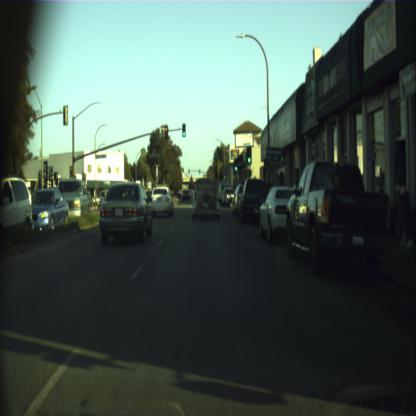Green: (233, 158, 238, 172), (247, 146, 251, 162), (182, 124, 186, 136), (198, 168, 200, 173)
Red: (164, 126, 168, 138), (188, 168, 190, 173)
RedLeft: (70, 165, 72, 178)
